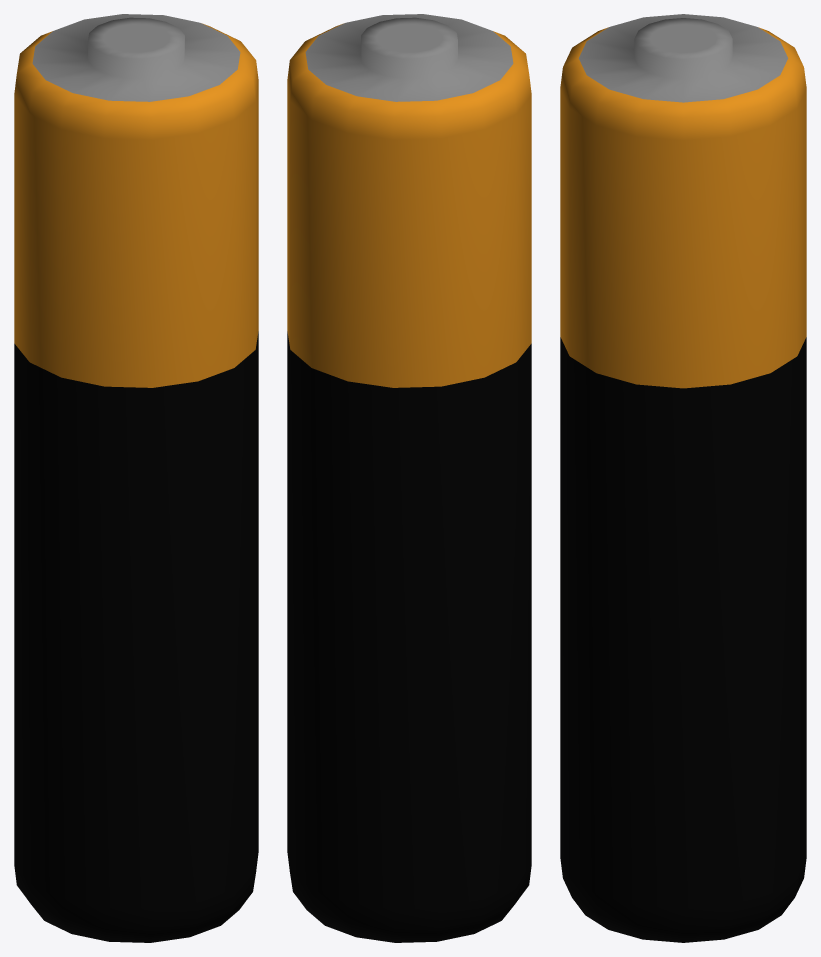
Rendered from Batterie.fbx.
3 renders of one model, left to right at view 1: azimuth 30°, elevation 25°; view 2: azimuth 150°, elevation 25°; view 3: azimuth 270°, elevation 25°, orthographic.
Parts seen in each view (by area): view 1: Batterie; view 2: Batterie; view 3: Batterie.
Boxes of the visible parts, x1,y1,x2,y2 form: Batterie: [14, 14, 258, 942]; Batterie: [287, 14, 531, 942]; Batterie: [560, 14, 806, 942].
Bounding box in the file's own units: 2.41 × 9.26 × 2.41.
